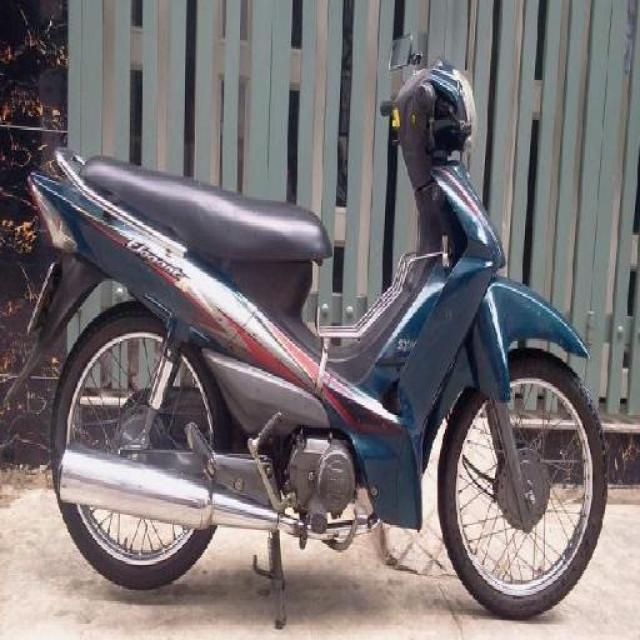All: (19, 55, 614, 619)
Head: (384, 59, 475, 149)
Tail: (29, 144, 110, 224)
